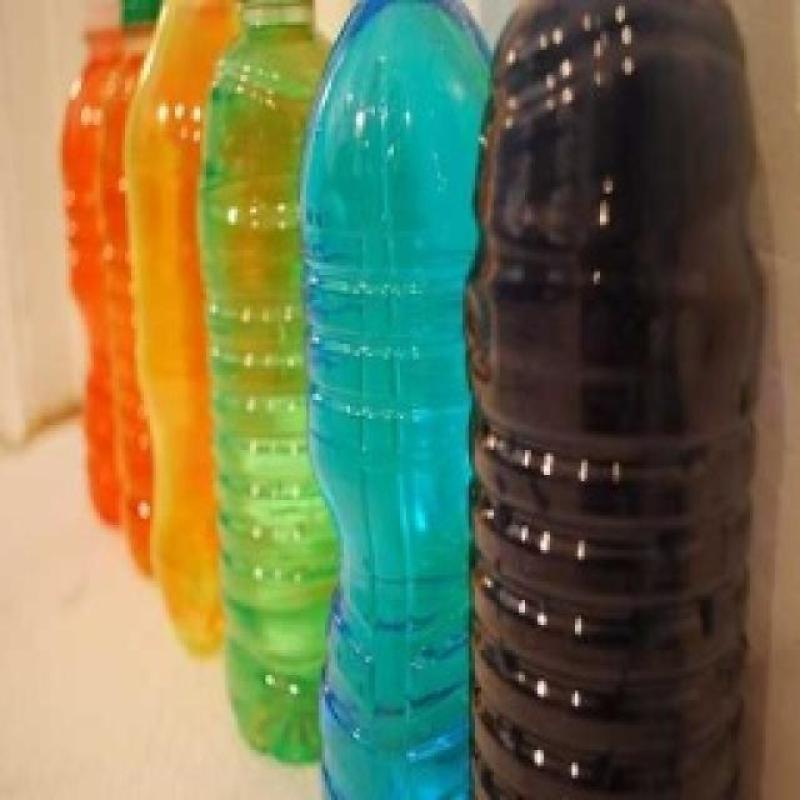botella: (470, 0, 764, 800), (306, 0, 496, 800), (201, 0, 358, 765), (125, 0, 269, 652), (62, 11, 156, 527), (102, 0, 182, 578)
